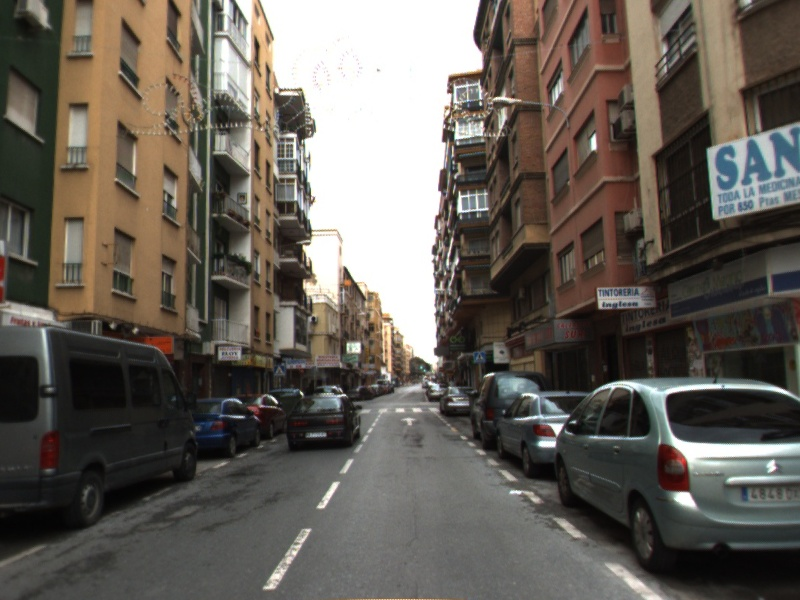STRAIGHT: (399, 415, 420, 427)
